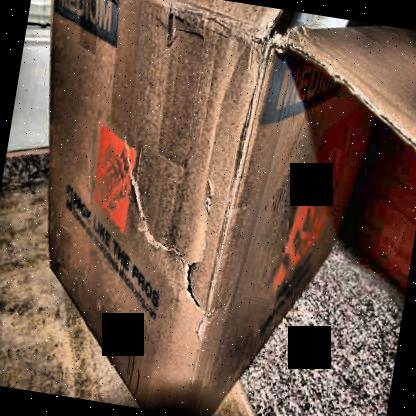defect parcel: (48, 111, 252, 344)
